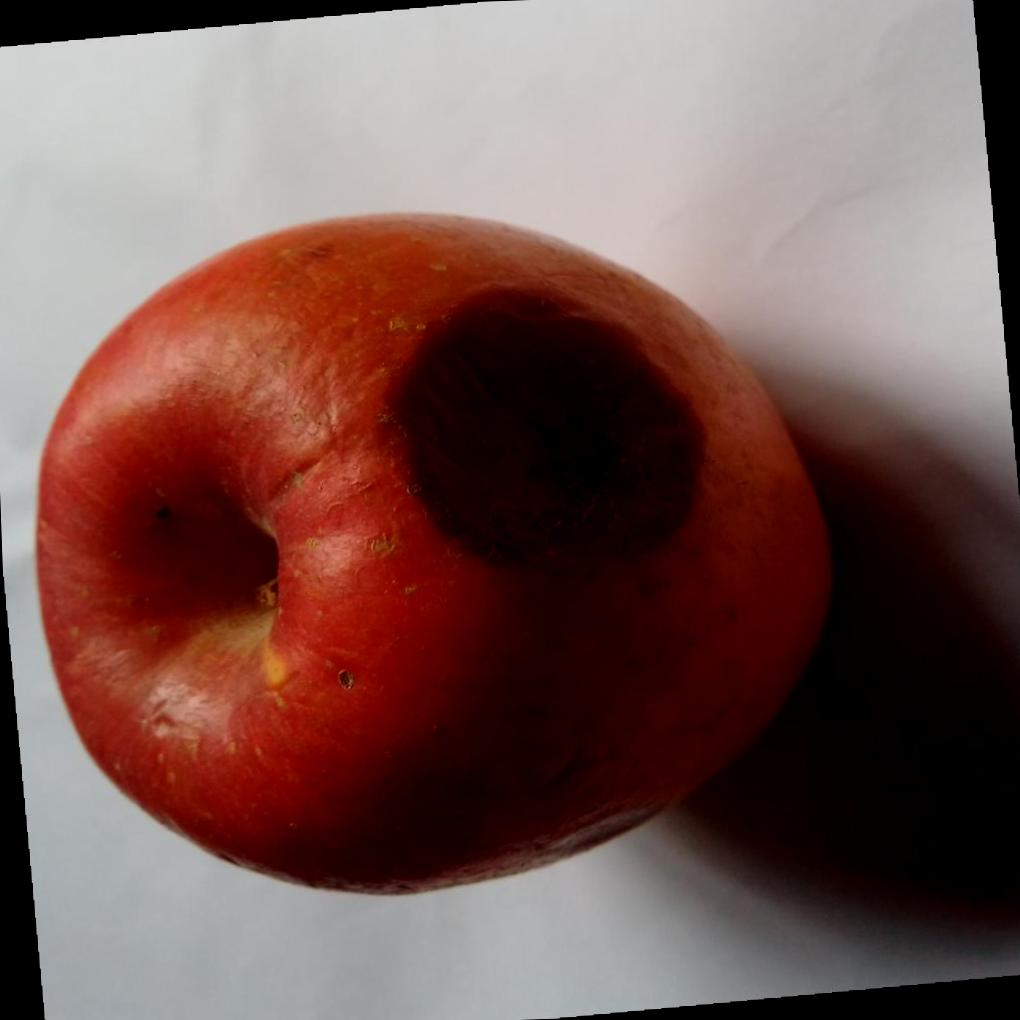FreshOrange: (31, 205, 835, 894)
